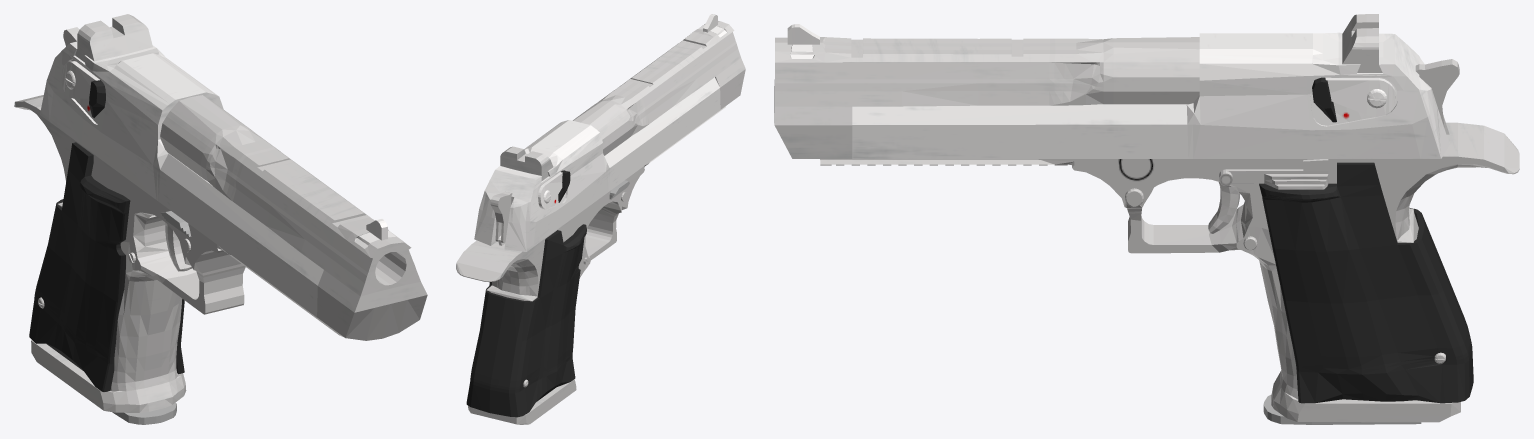
File: Deagle.fbx
The picture shows the model from 3 angles, left to right: view 1: azimuth 30°, elevation 25°; view 2: azimuth 150°, elevation 25°; view 3: azimuth 270°, elevation 25°; orthographic projection. The views are drawn at different scales.
Visible parts, largest first — view 1: Cube.005, Cube.001, Cube.004, Cube, Cube.014, Cube.002, Cube.010, Cube.007, Cube.003; view 2: Cube.001, Cube, Cube.005, Cube.004, Cube.014, Cube.002, Cube.008, Cube.007; view 3: Cube.001, Cube, Cube.005, Cube.004, Cube.002, Cube.009, Cube.014, Cube.008, Cube.003, Cube.007, Cube.010.
Boxes of the visible parts, x1,y1,x2,y2 form: Cube.005: (160, 95, 427, 340); Cube.001: (40, 41, 323, 317); Cube.004: (14, 95, 343, 412); Cube: (29, 142, 184, 391); Cube.014: (75, 14, 152, 62); Cube.002: (61, 61, 105, 117); Cube.010: (112, 403, 176, 424); Cube.007: (355, 219, 395, 248); Cube.003: (165, 222, 192, 271); Cube.001: (474, 77, 720, 251); Cube: (466, 224, 586, 417); Cube.005: (573, 21, 745, 155); Cube.004: (456, 106, 725, 424); Cube.014: (500, 146, 553, 180); Cube.002: (538, 170, 570, 209); Cube.008: (490, 191, 512, 242); Cube.007: (698, 14, 726, 37); Cube.001: (852, 32, 1449, 158); Cube: (1259, 162, 1473, 403); Cube.005: (774, 37, 1199, 158); Cube.004: (820, 122, 1519, 422); Cube.002: (1312, 77, 1395, 122); Cube.009: (1219, 159, 1328, 189); Cube.014: (1342, 14, 1382, 72); Cube.008: (1415, 59, 1459, 127); Cube.003: (1208, 182, 1240, 233); Cube.007: (787, 24, 819, 58); Cube.010: (1263, 394, 1421, 424).
Size of the model in its own units: 144 by 495 by 865.
